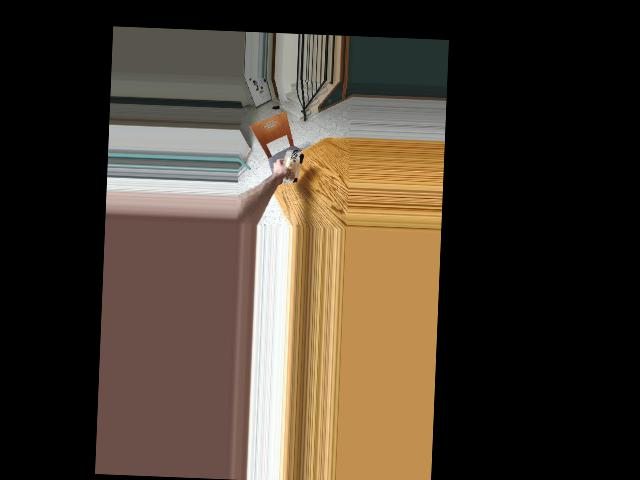cheese: (280, 150, 304, 184)
